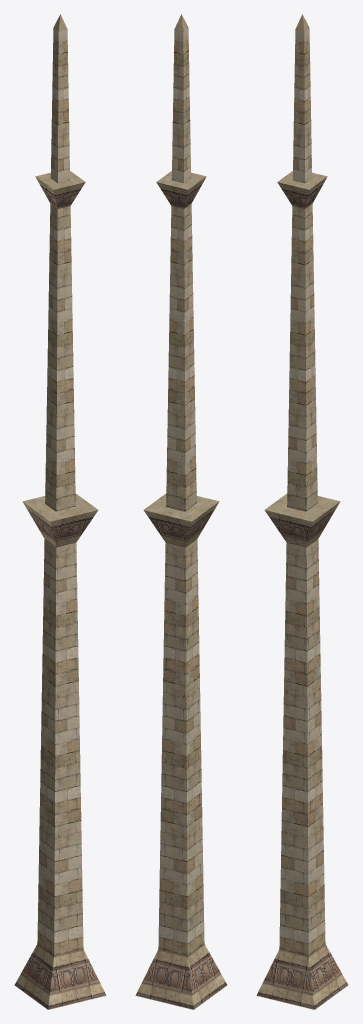
The model's file is thm_nboo_thed_imprv_obelisk_s01_l0.fbx.
The picture shows the model from 3 angles, left to right: view 1: azimuth 30°, elevation 25°; view 2: azimuth 150°, elevation 25°; view 3: azimuth 330°, elevation 25°; orthographic projection.
Visible parts, largest first — view 1: mesh_node; view 2: mesh_node; view 3: mesh_node.
Part boxes in pixels (x1=…): mesh_node: x1=14, y1=14, x2=106, y2=1009; mesh_node: x1=135, y1=14, x2=227, y2=1009; mesh_node: x1=256, y1=14, x2=348, y2=1009.
Bounding box in the file's own units: 1.27 × 20.22 × 1.27.
